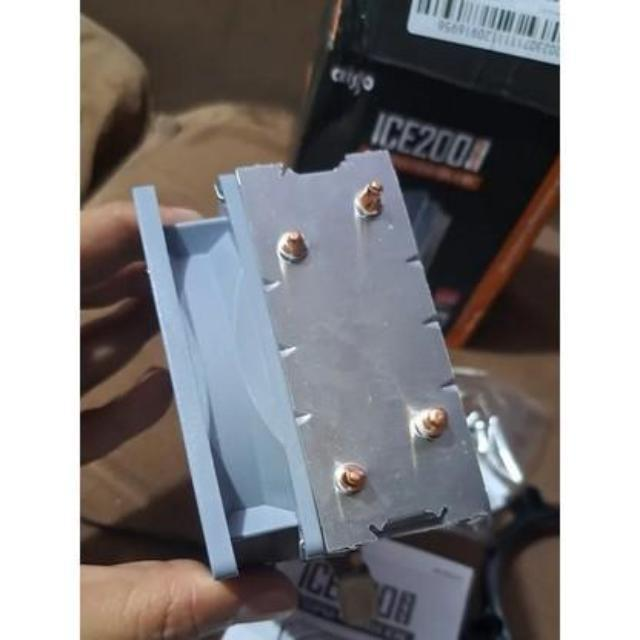CPU_Fan: (130, 148, 498, 584)
